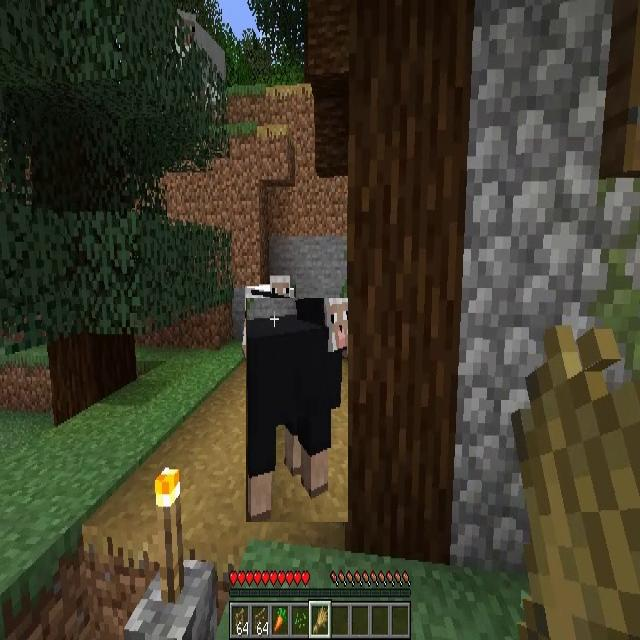sheep: (246, 298, 348, 522), (241, 274, 296, 354)
